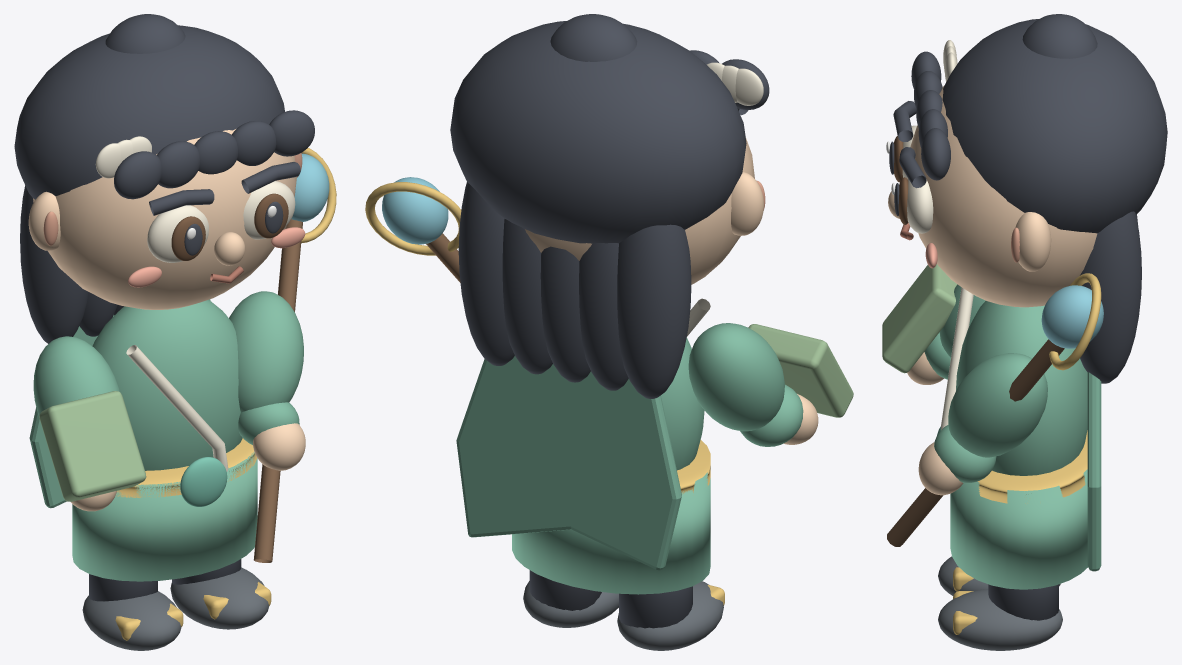
Rendered from r_healer.fbx.
The picture shows the model from 3 angles, left to right: view 1: azimuth 30°, elevation 25°; view 2: azimuth 150°, elevation 25°; view 3: azimuth 270°, elevation 25°; orthographic projection. The views are drawn at different scales.
Parts seen in each view (by area): view 1: hair_mass, face, body, robe_skirt, medicine_book, sleeve, long_hair, sleeve.001, boot, boot.001, spell_staff, hair_bun (+30 smaller); view 2: hair_mass, cape, long_hair, robe_skirt, sleeve.001, long_hair.004, long_hair.001, long_hair.003, long_hair.002, medicine_book, face, hair_bun (+13 smaller); view 3: hair_mass, face, robe_skirt, body, sleeve, long_hair.004, medicine_book, boot.001, cape, spell_gem, hair_bun, belt (+20 smaller).
Part boxes in pixels (bbox=[...]): hair_mass: bbox=[14, 25, 284, 199]; face: bbox=[33, 129, 296, 309]; body: bbox=[92, 300, 242, 470]; robe_skirt: bbox=[72, 452, 257, 581]; medicine_book: bbox=[39, 391, 146, 501]; sleeve: bbox=[229, 291, 303, 412]; long_hair: bbox=[20, 185, 88, 343]; sleeve.001: bbox=[33, 336, 120, 417]; boot: bbox=[82, 591, 181, 650]; boot.001: bbox=[170, 567, 268, 629]; spell_staff: bbox=[253, 219, 302, 562]; hair_bun: bbox=[105, 14, 185, 53]; hair_mass: bbox=[450, 21, 746, 243]; cape: bbox=[456, 356, 681, 570]; long_hair: bbox=[617, 224, 691, 398]; robe_skirt: bbox=[512, 472, 710, 594]; sleeve.001: bbox=[688, 323, 784, 431]; long_hair.004: bbox=[458, 182, 514, 365]; long_hair.001: bbox=[579, 243, 628, 390]; long_hair.003: bbox=[502, 219, 552, 374]; long_hair.002: bbox=[540, 246, 590, 382]; medicine_book: bbox=[748, 324, 853, 417]; face: bbox=[525, 137, 754, 284]; hair_bun: bbox=[550, 14, 637, 61]; hair_mass: bbox=[942, 19, 1167, 233]; face: bbox=[907, 85, 1097, 307]; robe_skirt: bbox=[950, 469, 1087, 589]; body: bbox=[956, 301, 1087, 475]; sleeve: bbox=[948, 353, 1047, 457]; long_hair.004: bbox=[1080, 211, 1141, 383]; medicine_book: bbox=[882, 264, 957, 373]; boot.001: bbox=[938, 589, 1062, 650]; cape: bbox=[1087, 372, 1101, 571]; spell_gem: bbox=[1041, 285, 1103, 348]; hair_bun: bbox=[1022, 14, 1097, 58]; belt: bbox=[977, 430, 1087, 503].
Bounding box in the file's own units: 1.55 × 2.44 × 1.05.
